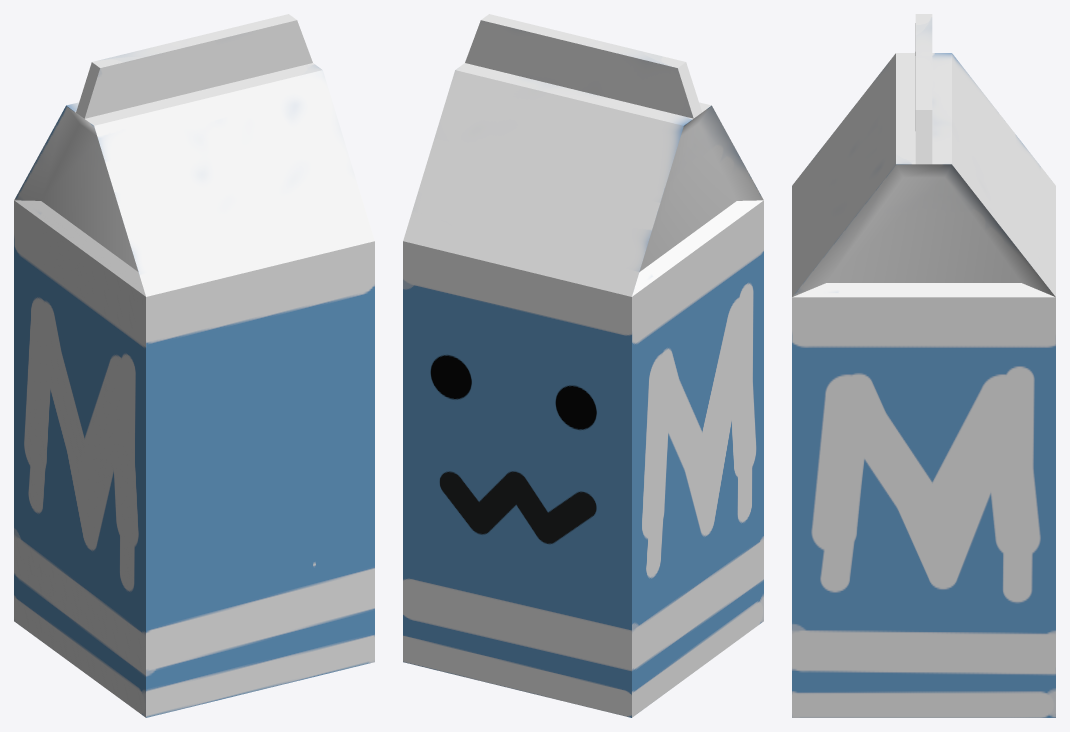
File: throw milk.fbx
3 renders of one model, left to right at view 1: azimuth 30°, elevation 25°; view 2: azimuth 150°, elevation 25°; view 3: azimuth 270°, elevation 25°, orthographic.
Parts seen in each view (by area): view 1: pCube7; view 2: pCube7; view 3: pCube7.
Boxes of the visible parts, x1,y1,x2,y2 form: pCube7: (14,14,374,717); pCube7: (403,14,763,717); pCube7: (792,14,1055,717).
Size of the model in its own units: 26.54 by 66.6 by 26.54.
